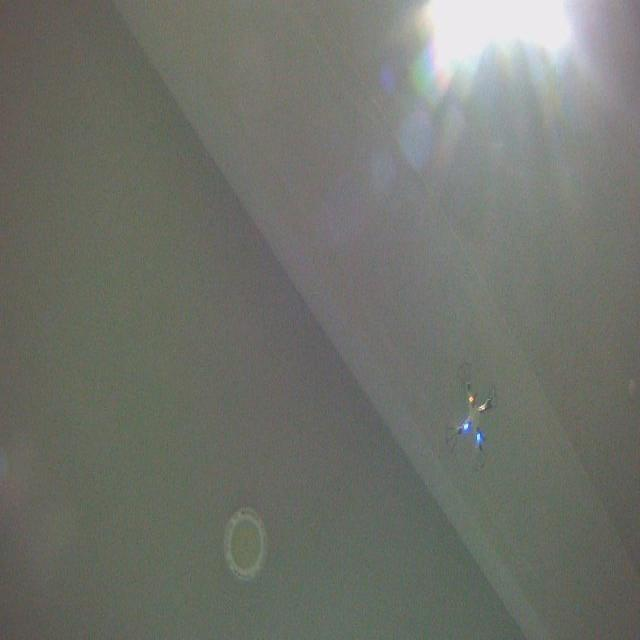drone: (444, 360, 499, 473)
